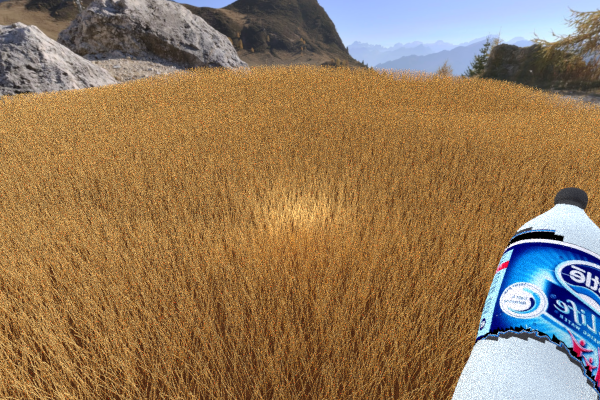bottle: (437, 187, 600, 400)
